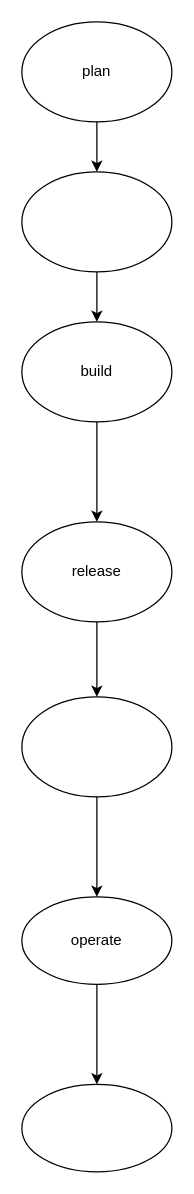
The diagram is 194 pixels wide and 1194 high, and some of its shapes have lost their labels. The centre of each missing label's shape, as x and y in pixels:
deploy: [96,746]
develop: [96,221]
